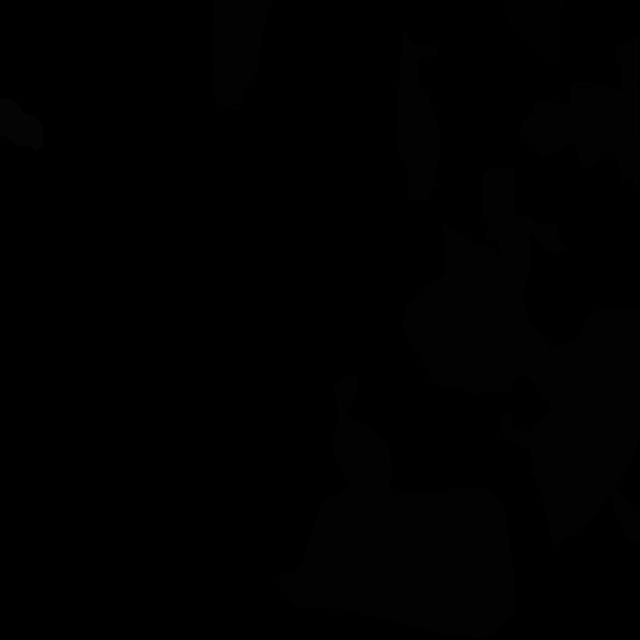cardboard: (277, 374, 517, 639), (526, 306, 640, 548), (400, 224, 554, 401), (482, 167, 570, 318), (520, 81, 640, 187), (396, 28, 443, 201), (210, 0, 273, 111), (615, 33, 639, 90), (499, 407, 529, 450)
soft_plastic: (0, 97, 44, 152)
